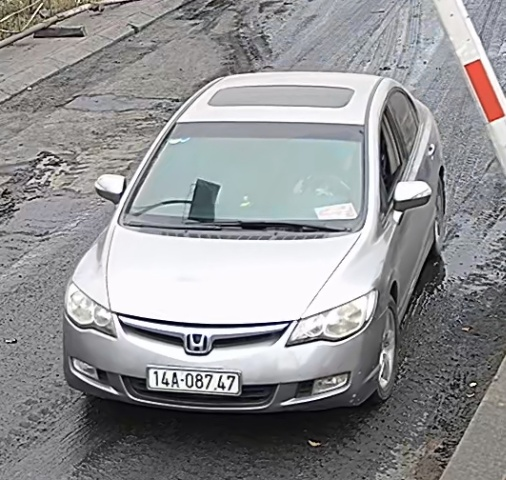vehicle plate: (138, 361, 242, 397)
